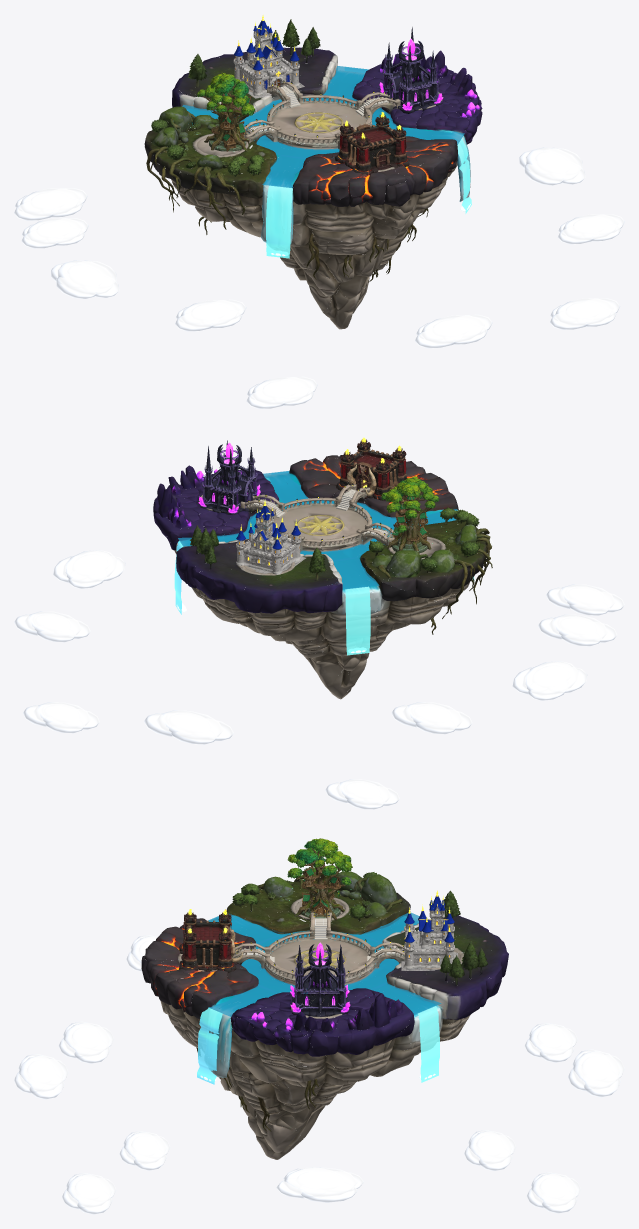
The model's file is castle_field_diorama.glb.
The picture shows the model from 3 angles, top to bottom: view 1: azimuth 30°, elevation 25°; view 2: azimuth 150°, elevation 25°; view 3: azimuth 270°, elevation 25°; orthographic projection. The views are drawn at different scales.
Parts seen in each view (by area): view 1: Tripo_Floating_Island_Base, Props_Floating_Cloud_Ring, Water_Moat_Animated, Castle_Dragon_Hero, Castle_Kingdom_Hero, Castle_Demon_Hero, Castle_Forest_Hero, Water_Waterfalls_Animated; view 2: Tripo_Floating_Island_Base, Props_Floating_Cloud_Ring, Water_Moat_Animated, Castle_Kingdom_Hero, Castle_Demon_Hero, Castle_Forest_Hero, Castle_Dragon_Hero, Water_Waterfalls_Animated; view 3: Tripo_Floating_Island_Base, Props_Floating_Cloud_Ring, Water_Moat_Animated, Castle_Forest_Hero, Castle_Demon_Hero, Castle_Dragon_Hero, Castle_Kingdom_Hero, Water_Waterfalls_Animated.
Boxes of the visible parts, box(x1,y1,x2,y2) form: Tripo_Floating_Island_Base: box(144, 19, 482, 329); Props_Floating_Cloud_Ring: box(14, 117, 624, 408); Water_Moat_Animated: box(182, 66, 464, 188); Castle_Dragon_Hero: box(335, 112, 410, 175); Castle_Kingdom_Hero: box(233, 15, 304, 98); Castle_Demon_Hero: box(379, 27, 443, 113); Castle_Forest_Hero: box(197, 72, 254, 151); Water_Waterfalls_Animated: box(266, 67, 471, 258); Tripo_Floating_Island_Base: box(153, 455, 492, 699); Props_Floating_Cloud_Ring: box(14, 514, 624, 809); Water_Moat_Animated: box(178, 471, 457, 589); Castle_Kingdom_Hero: box(236, 500, 305, 577); Castle_Demon_Hero: box(198, 440, 260, 514); Castle_Forest_Hero: box(381, 476, 439, 553); Castle_Dragon_Hero: box(336, 437, 407, 500); Water_Waterfalls_Animated: box(174, 471, 474, 655); Tripo_Floating_Island_Base: box(141, 867, 508, 1159); Props_Floating_Cloud_Ring: box(14, 935, 624, 1214); Water_Moat_Animated: box(208, 912, 441, 1016); Castle_Forest_Hero: box(287, 838, 352, 920); Castle_Demon_Hero: box(290, 942, 350, 1016); Castle_Dragon_Hero: box(179, 909, 242, 972); Castle_Kingdom_Hero: box(401, 890, 457, 970); Water_Waterfalls_Animated: box(197, 917, 439, 1084).
Size of the model in its own units: 119 by 56.74 by 115.
Materials: 18 (5 with a texture image).
